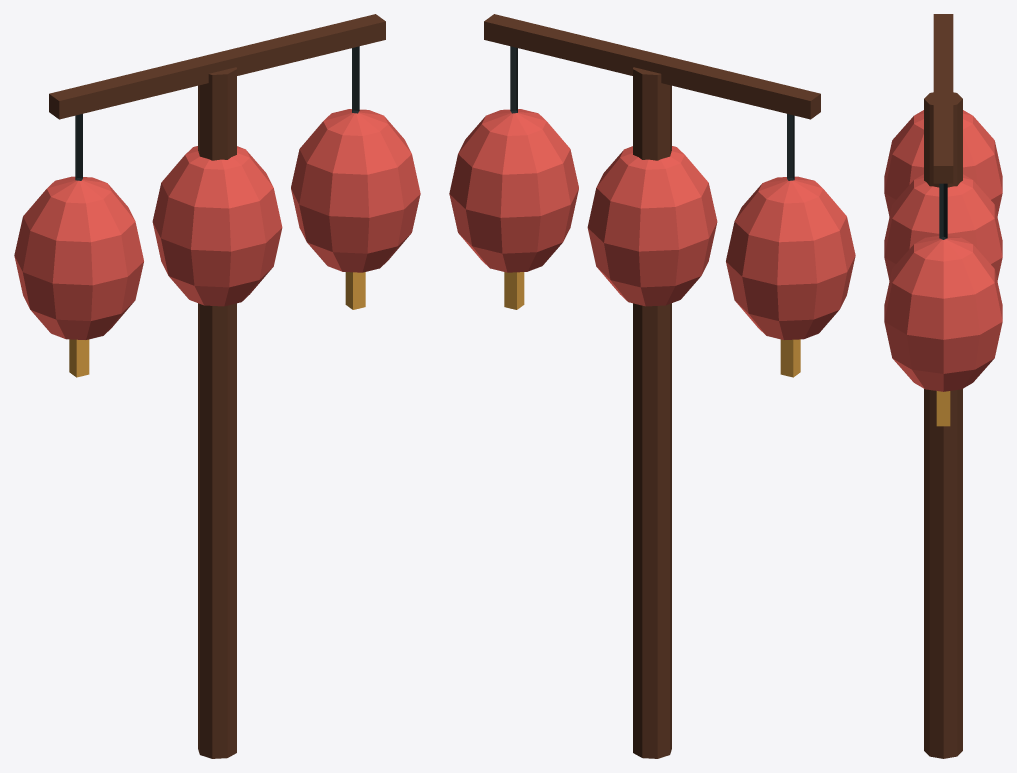
The model's file is ParkParkDecorPaperLantern.obj.
3 views of the same model, side by side, from view 1: azimuth 30°, elevation 25°; view 2: azimuth 150°, elevation 25°; view 3: azimuth 270°, elevation 25° (orthographic). The views are drawn at different scales.
Parts seen in each view (by area): view 1: ParkParkDecorPaperLantern; view 2: ParkParkDecorPaperLantern; view 3: ParkParkDecorPaperLantern.
Part boxes in pixels (x1,y1,x2,y2): ParkParkDecorPaperLantern: (14, 14, 420, 758); ParkParkDecorPaperLantern: (449, 14, 855, 758); ParkParkDecorPaperLantern: (884, 14, 1002, 758).
Bounding box in the file's own units: 3.1 × 5.27 × 0.856.
